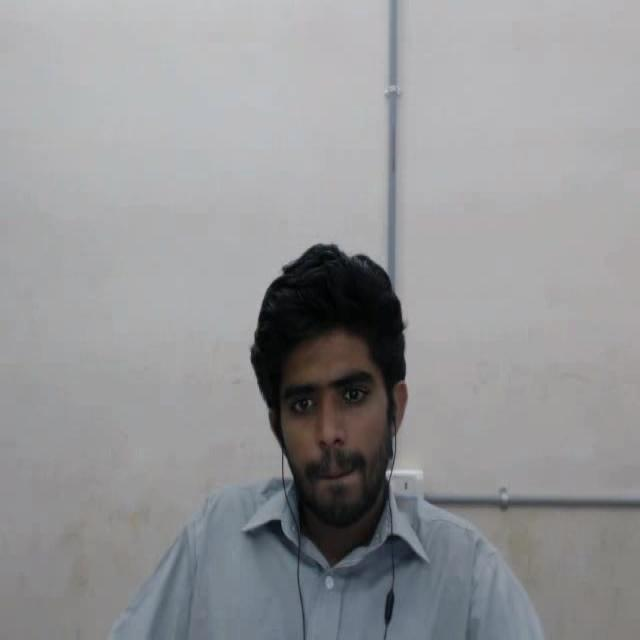Bored: (209, 217, 451, 562)
